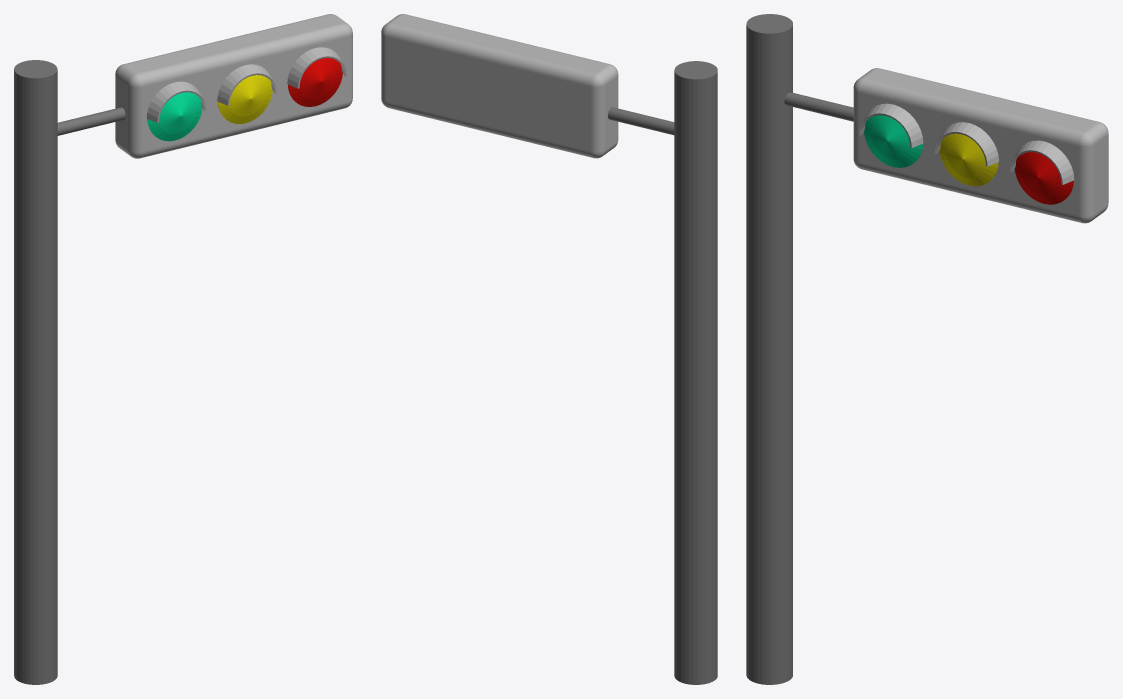
File: traffic-light.fbx
The picture shows the model from 3 angles, left to right: view 1: azimuth 30°, elevation 25°; view 2: azimuth 150°, elevation 25°; view 3: azimuth 330°, elevation 25°; orthographic projection. The views are drawn at different scales.
Parts seen in each view (by area): view 1: 円柱.007, 立方体.001, 円柱.002, 円柱, 円柱.001, 円柱.006, 円柱.003, 円柱.005, 円柱.004; view 2: 円柱.007, 立方体.001, 円柱.006; view 3: 円柱.007, 立方体.001, 円柱, 円柱.002, 円柱.001, 円柱.004, 円柱.005, 円柱.003, 円柱.006.
Part boxes in pixels (x1,y1,x2,y2): 円柱.007: (14,60,57,684); 立方体.001: (115,14,352,158); 円柱.002: (147,92,202,141); 円柱: (217,75,272,123); 円柱.001: (288,58,342,106); 円柱.006: (57,107,125,135); 円柱.003: (217,64,276,105); 円柱.005: (146,81,206,122); 円柱.004: (287,47,347,88); 円柱.007: (674,61,717,684); 立方体.001: (381,14,618,158); 円柱.006: (608,107,674,135); 円柱.007: (746,14,792,684); 立方体.001: (853,68,1108,223); 円柱: (939,133,998,186); 円柱.002: (864,115,922,167); 円柱.001: (1014,152,1073,204); 円柱.004: (1010,140,1074,184); 円柱.005: (859,103,923,147); 円柱.003: (934,122,998,166); 円柱.006: (784,92,853,121).
Bounding box in the file's own units: 1.08 × 1.92 × 0.1726.
